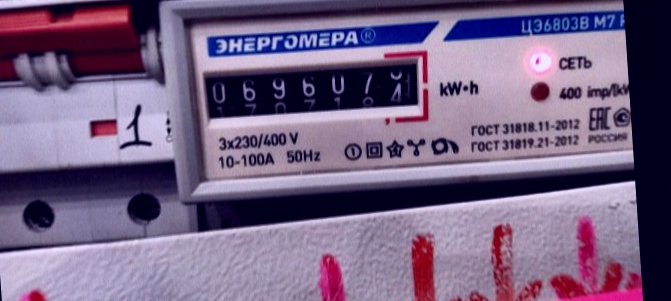0: (207, 79, 226, 104), (327, 69, 343, 95)
4: (385, 80, 402, 105)
6: (237, 77, 256, 102), (297, 72, 316, 97)
7: (357, 69, 374, 96)
9: (267, 75, 285, 100)
screen: (187, 43, 433, 133)
